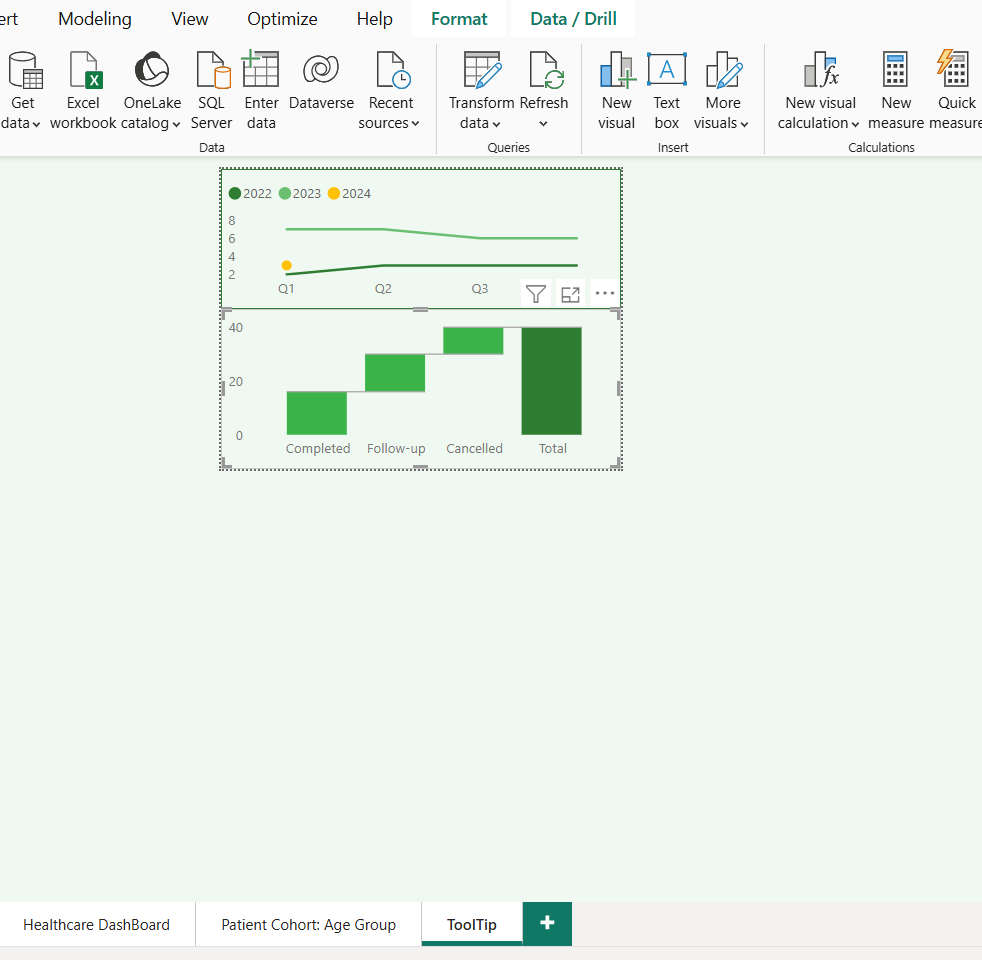

Layout of this report page (visuals, bound fields, positions):
{"tool":"powerbi","page":{"name":"ToolTip","canvas":[320,240],"ordinal":2},"visuals":[{"type":"lineChart","fields":{"Y":["FactVisits.Total Visits"],"Series":["Date.Year"],"Category":["Date.Quarter"]},"box":[0,0,320,112],"z":0},{"type":"waterfallChart","fields":{"Category":["FactVisits.Status"],"Y":["FactVisits.Total Visits"]},"box":[0,112,320,128],"z":1000}]}

Visuals, with their boxes on the page's 320x240 design canvas (x1, y1, x2, y2). These are canvas units, not pixel positions in the 982x960 screenshot, which may show the page scaled, cropped or inside an application window:
lineChart - FactVisits.Total Visits x Date.Year: pyautogui.locateOnScreen(0, 0, 320, 112)
waterfallChart - FactVisits.Status x FactVisits.Total Visits: pyautogui.locateOnScreen(0, 112, 320, 240)
